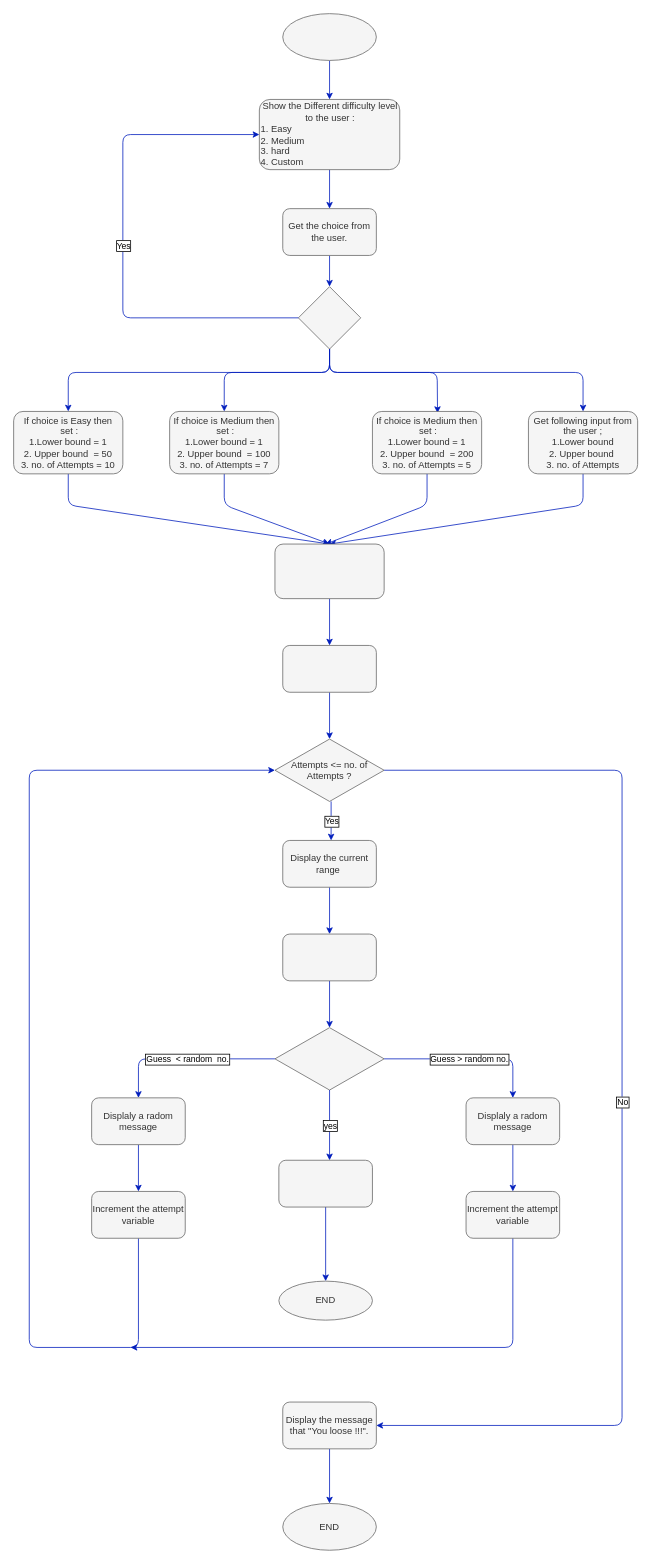
The diagram is 651 pixels wide and 1564 high, and some of its shapes have lost their labels. Here are the shapes that lost their labels. From the top down, the centre of each, then its label:
point 329,36: START
point 329,317: If choice is invalid !
point 329,571: Set a random variable to guess by using 'random' librory (LB <= random<=UB)
point 329,668: Attempts = 0
point 329,957: Get the random guess from the user
point 329,1058: Guess == random no.
point 325,1183: Display the message that, "No. is succesfully guessed"
